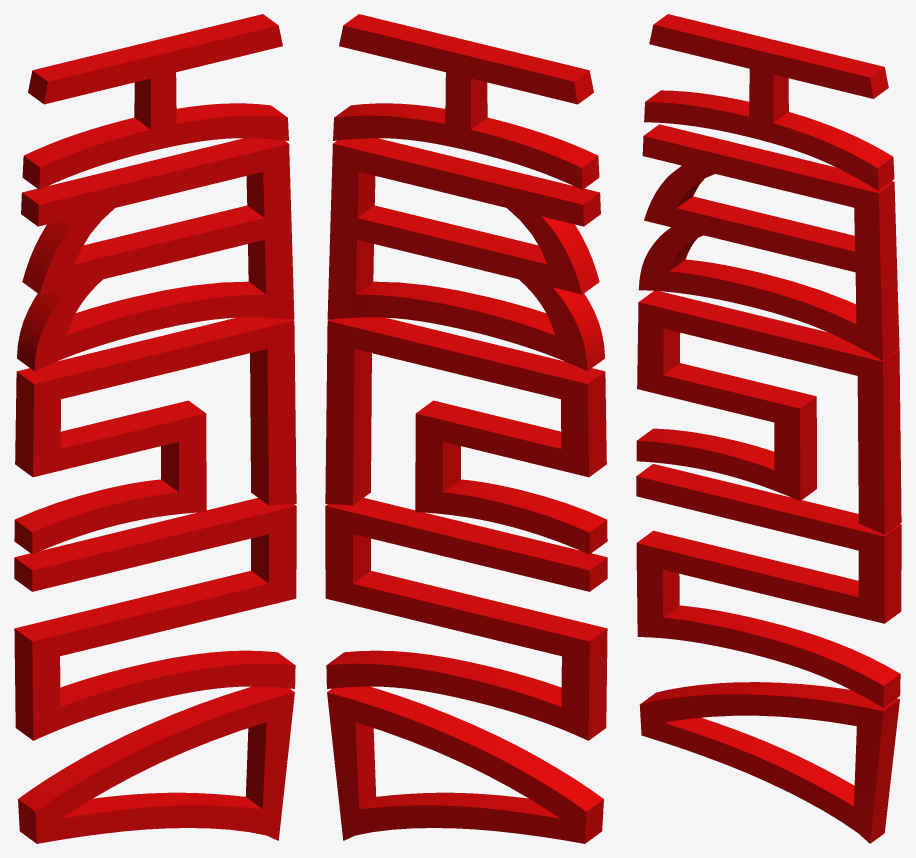
The model's file is Text_sign_7.fbx.
3 renders of one model, left to right at view 1: azimuth 30°, elevation 25°; view 2: azimuth 150°, elevation 25°; view 3: azimuth 330°, elevation 25°, orthographic. The views are drawn at different scales.
Parts seen in each view (by area): view 1: Text_sign_7; view 2: Text_sign_7; view 3: Text_sign_7.
Boxes of the visible parts, box(x1,y1,x2,y2) form: Text_sign_7: box(14, 14, 296, 843); Text_sign_7: box(325, 14, 607, 843); Text_sign_7: box(636, 14, 901, 843).
Size of the model in its own units: 24.63 by 72.61 by 2.88.
